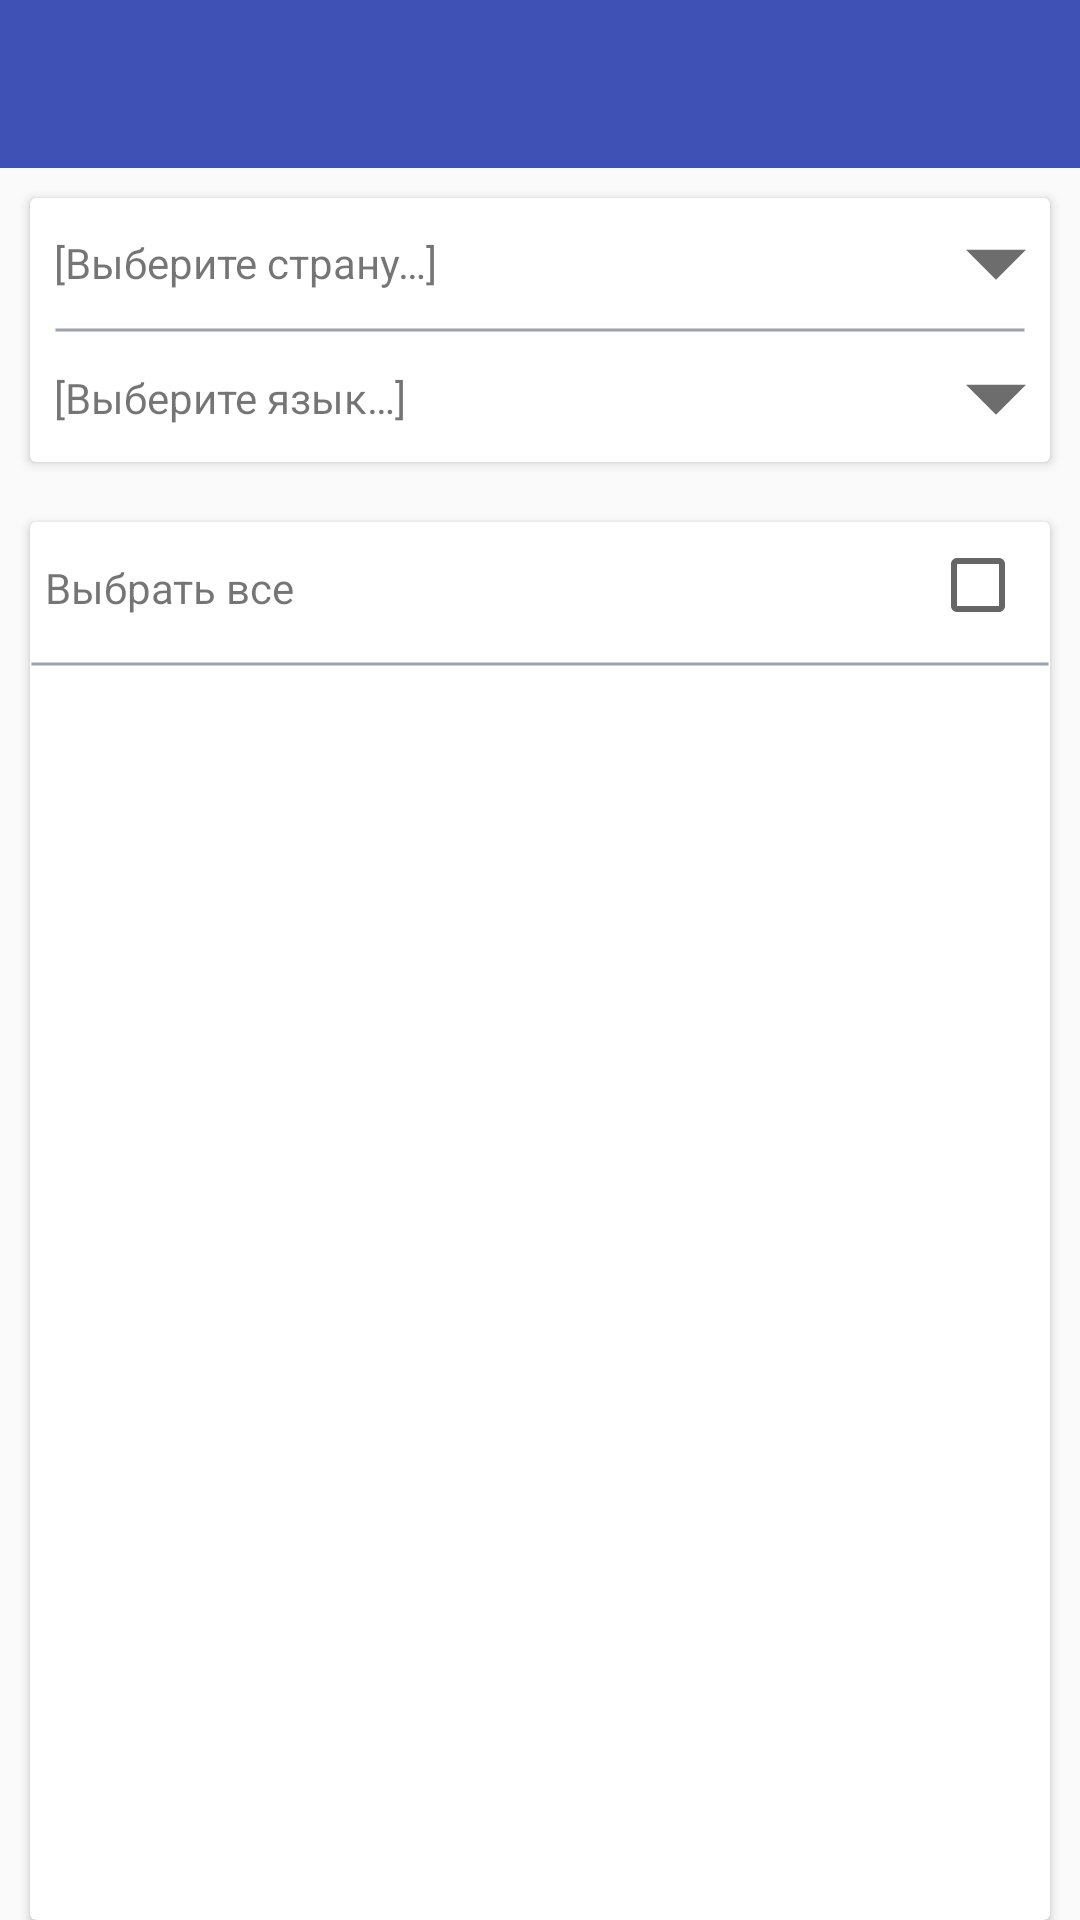

Icon click points for this 1080w x 1920h phone screenshot, format (x=x, y=y):
dropdown: (x=996, y=264), (x=996, y=399)
